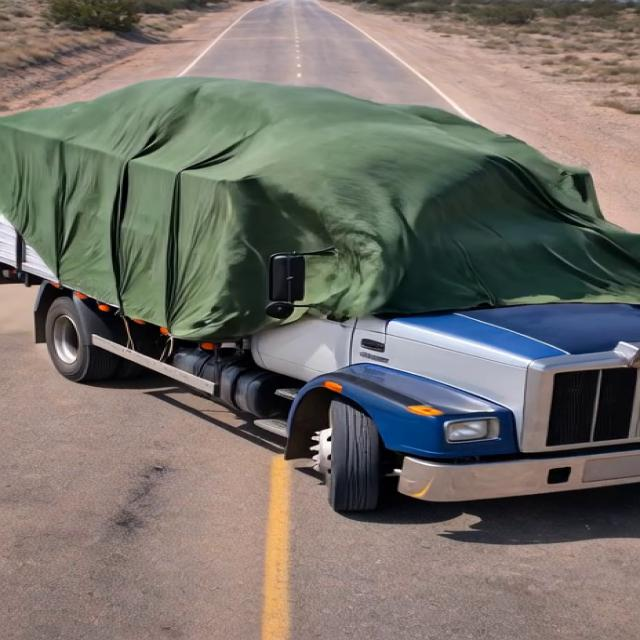Box: (6, 74, 600, 207)
Truck: (0, 66, 638, 498)
